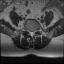CCS_normal: (31, 29, 32, 37)
LFS_stenosis: (34, 28, 36, 34)
LLS_normal: (32, 29, 34, 36)
RFS_normal: (27, 27, 29, 33)
RLS_normal: (29, 29, 31, 36)
